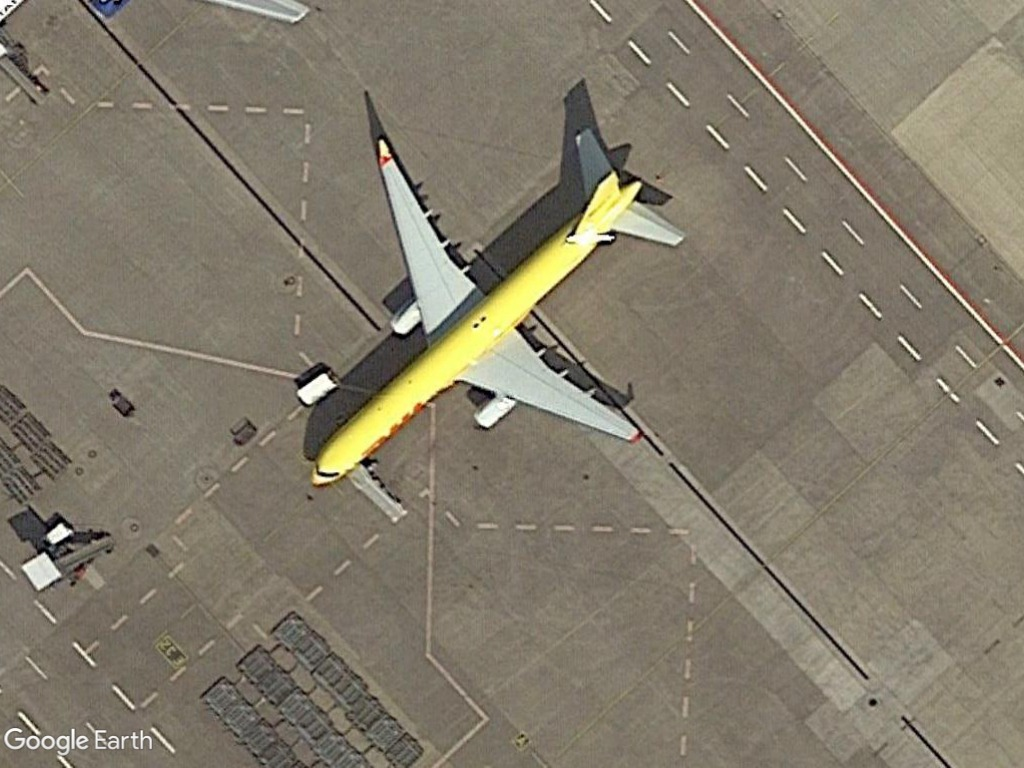airliner: (305, 124, 686, 490)
